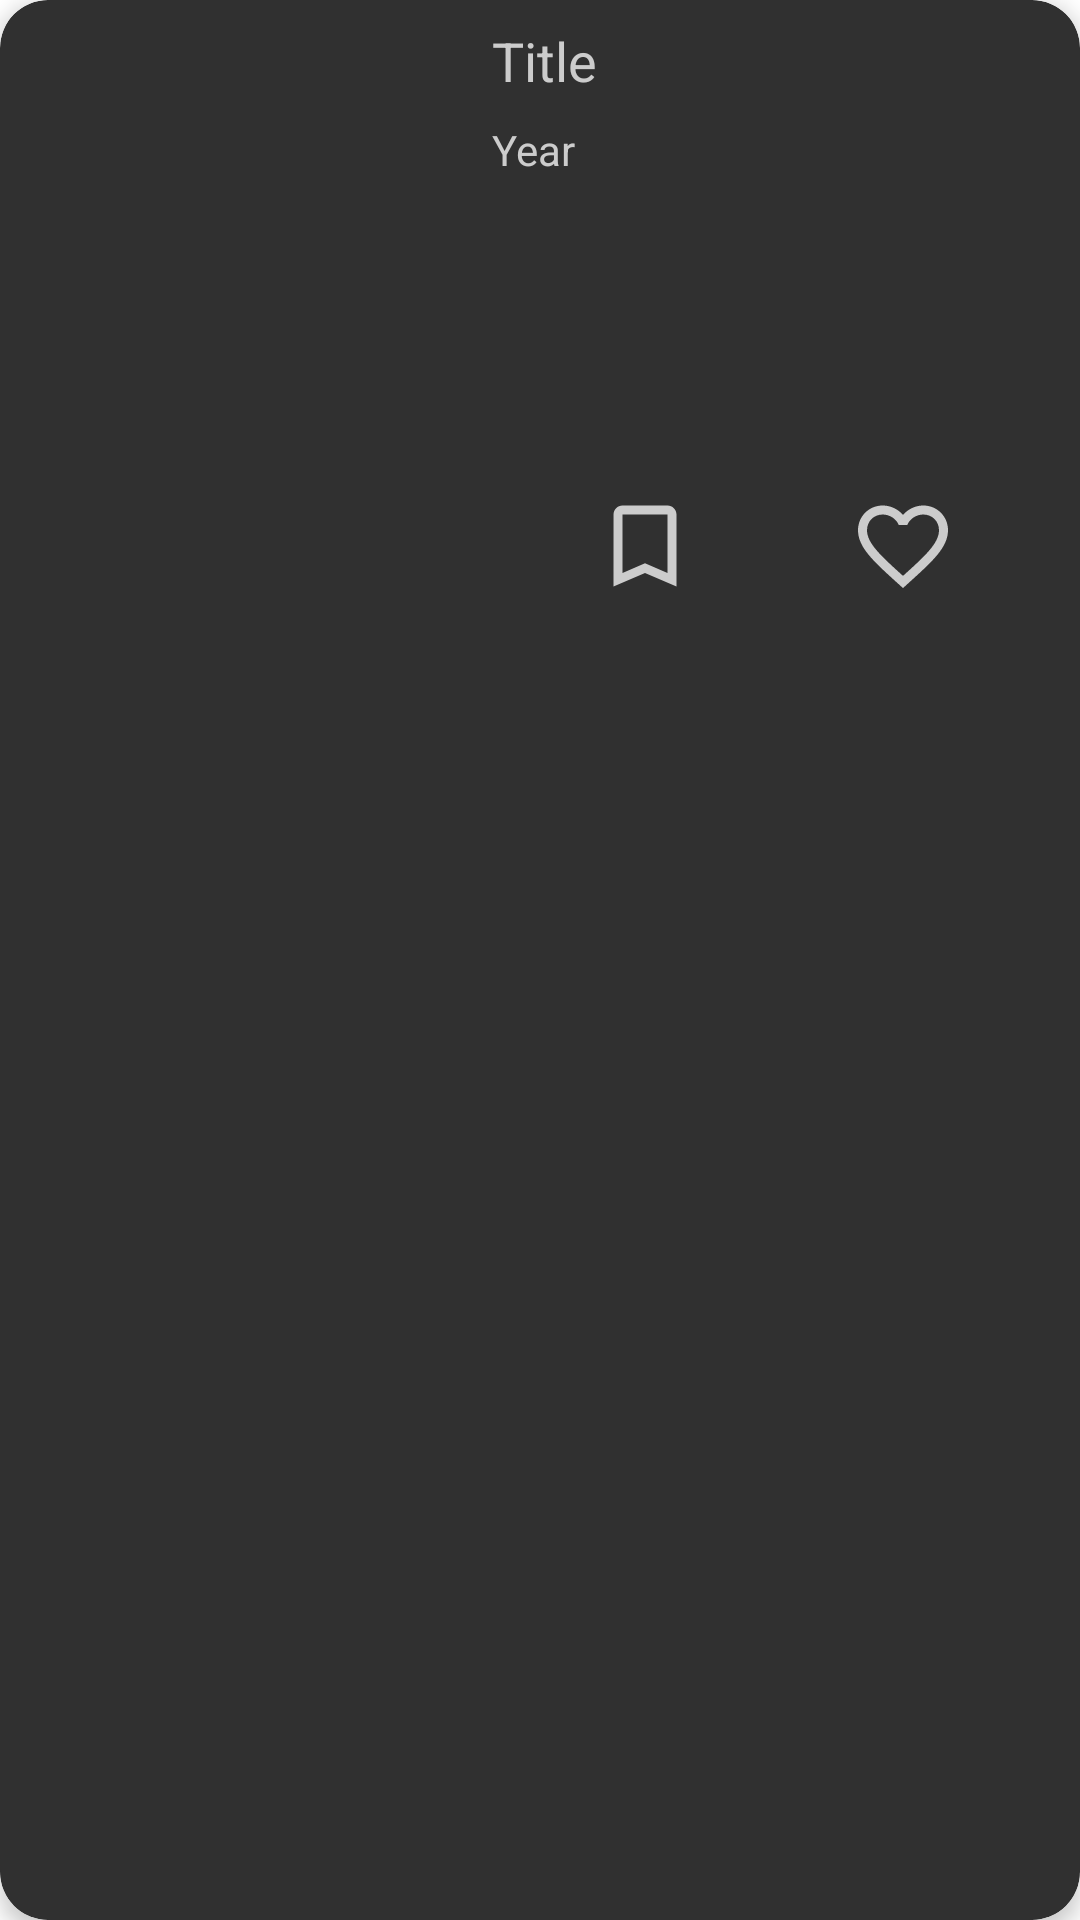

Screen size 1080w x 1920h. Icon name, then its center in pixels as [x,y]:
Favorite Icon: [903,546]
Watchlist Icon: [645,546]
